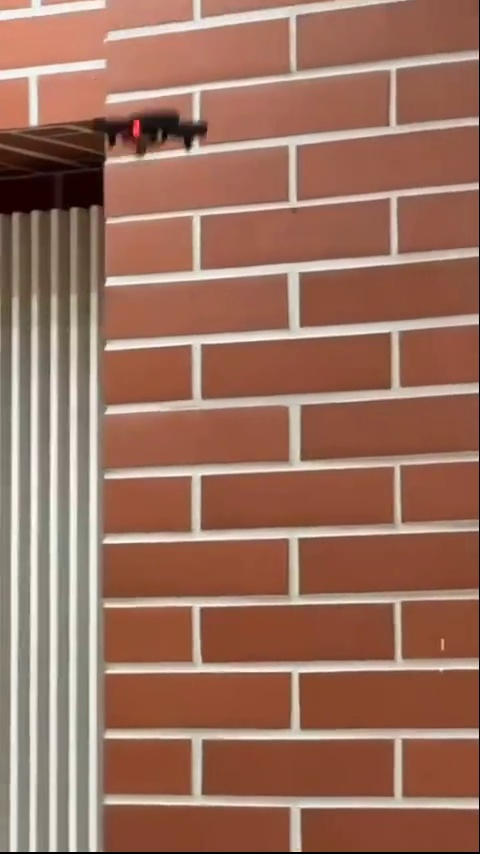drone: (90, 111, 211, 149)
